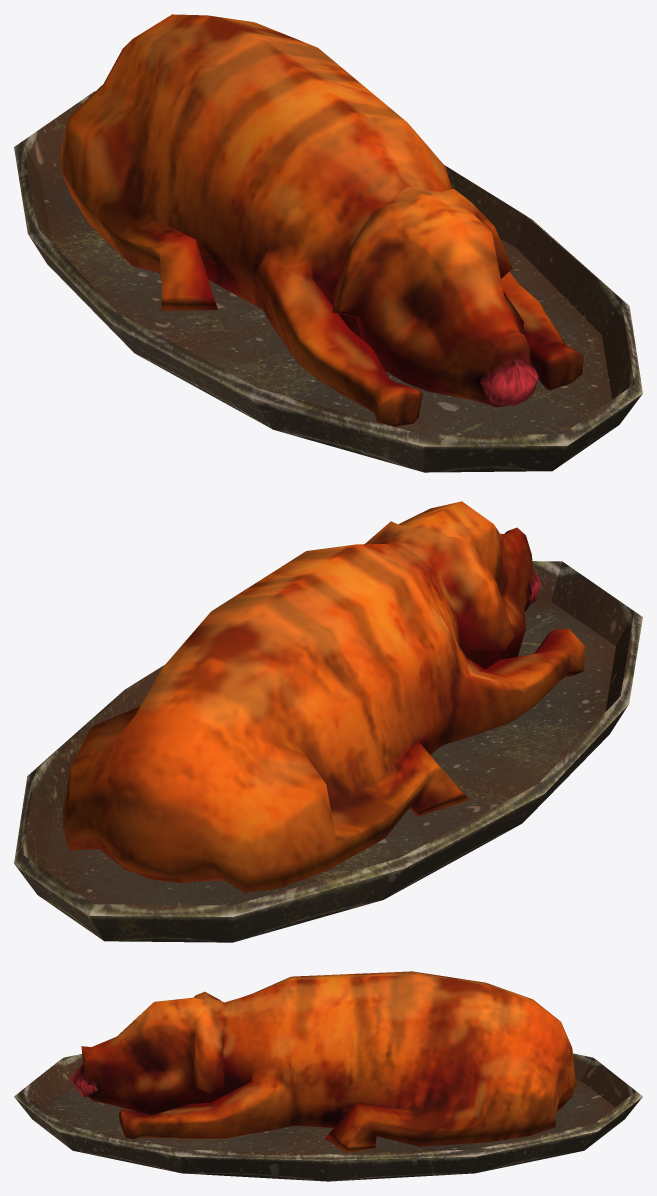
The model's file is SM_Cluster_Kitchen_06.fbx.
3 renders of one model, top to bottom at view 1: azimuth 30°, elevation 25°; view 2: azimuth 150°, elevation 25°; view 3: azimuth 270°, elevation 25°, orthographic. The views are drawn at different scales.
Parts seen in each view (by area): view 1: Pig_Low, Pig_Plate_Low; view 2: Pig_Low, Pig_Plate_Low; view 3: Pig_Low, Pig_Plate_Low.
Part boxes in pixels (x1=…): Pig_Low: x1=61, y1=14, x2=583, y2=426; Pig_Plate_Low: x1=14, y1=91, x2=642, y2=472; Pig_Low: x1=63, y1=501, x2=585, y2=893; Pig_Plate_Low: x1=14, y1=561, x2=642, y2=942; Pig_Low: x1=70, y1=971, x2=575, y2=1153; Pig_Plate_Low: x1=14, y1=1053, x2=642, y2=1181.
Bounding box in the file's own units: 68.24 × 33.98 × 134.
